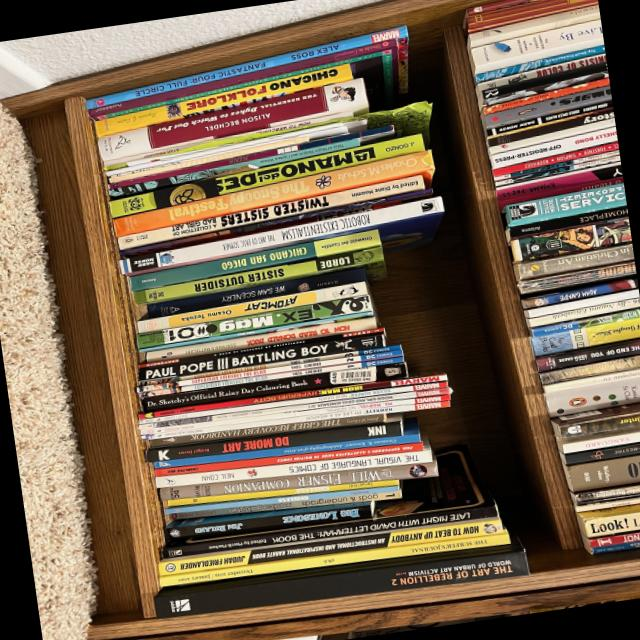book: (152, 442, 497, 561), (85, 39, 404, 150), (152, 535, 529, 627), (115, 196, 447, 289), (109, 149, 436, 238), (85, 25, 409, 111), (116, 174, 425, 252), (136, 132, 425, 214), (95, 77, 370, 163), (157, 528, 510, 588), (157, 516, 501, 577), (93, 62, 353, 139), (154, 438, 432, 501), (131, 247, 386, 313), (127, 228, 381, 294), (108, 136, 360, 200), (143, 413, 403, 471), (138, 378, 447, 425), (138, 373, 446, 420), (141, 361, 407, 414), (139, 385, 452, 430), (151, 418, 420, 470), (135, 294, 373, 350), (140, 393, 449, 436), (136, 331, 386, 383), (137, 337, 402, 386), (141, 399, 450, 441), (135, 280, 369, 335), (136, 352, 403, 399), (156, 458, 438, 502), (134, 349, 403, 394), (146, 266, 367, 320), (144, 315, 379, 364), (154, 441, 422, 478), (137, 328, 384, 368), (145, 311, 373, 351), (150, 412, 386, 448), (162, 501, 375, 540), (167, 478, 399, 507), (184, 489, 402, 519), (183, 484, 400, 513), (210, 109, 354, 148), (118, 139, 208, 164)
